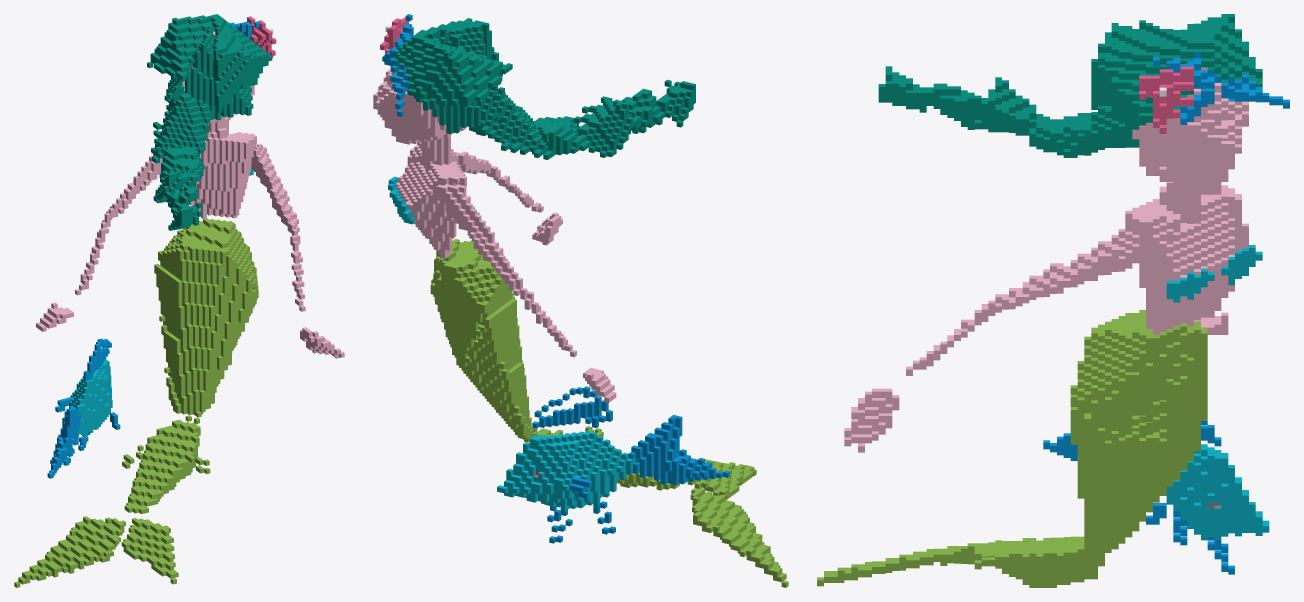
File: Siren.glb
3 renders of one model, left to right at view 1: azimuth 30°, elevation 25°; view 2: azimuth 150°, elevation 25°; view 3: azimuth 270°, elevation 25°, orthographic. The views are drawn at different scales.
Parts seen in each view (by area): view 1: group125484008_Voxelized; view 2: group125484008_Voxelized; view 3: group125484008_Voxelized.
Boxes of the visible parts, x1=… form: group125484008_Voxelized: x1=14, y1=14, x2=344, y2=587; group125484008_Voxelized: x1=373, y1=14, x2=788, y2=587; group125484008_Voxelized: x1=817, y1=14, x2=1289, y2=587.
Bounding box in the file's own units: 1.14 × 1.66 × 0.9982.
Materials: 1 (1 with a texture image).
